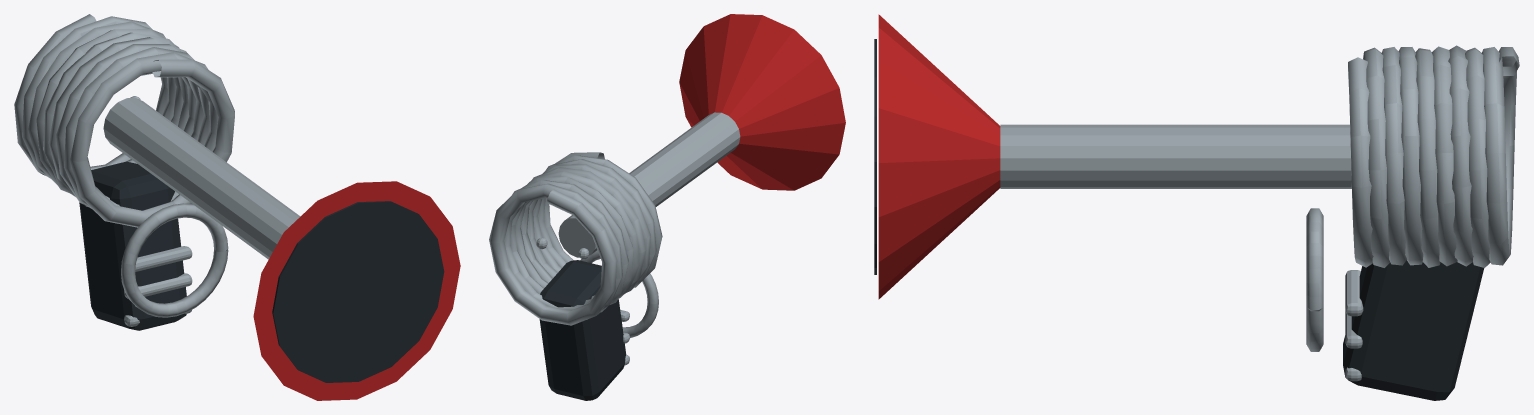
Rendered from suction-grappler.glb.
The picture shows the model from 3 angles, left to right: view 1: azimuth 30°, elevation 25°; view 2: azimuth 150°, elevation 25°; view 3: azimuth 270°, elevation 25°; orthographic projection. The views are drawn at different scales.
Parts seen in each view (by area): view 1: barrel; view 2: barrel; view 3: barrel.
Part boxes in pixels (box(x1,y1,x2,y2)): barrel: box(14, 14, 460, 400); barrel: box(489, 14, 845, 400); barrel: box(874, 14, 1519, 400).
Size of the model in its own units: 0.4 by 0.5589 by 0.902.
